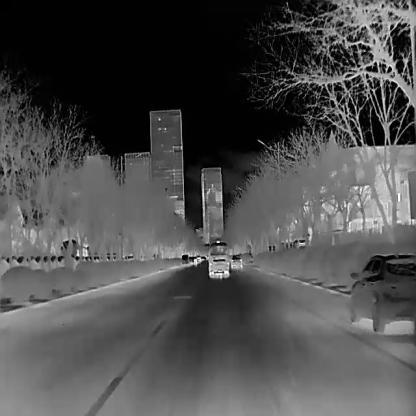car: (347, 254, 416, 333), (207, 240, 230, 279), (229, 253, 242, 268), (180, 254, 189, 264), (196, 254, 201, 263), (188, 256, 193, 263), (193, 256, 196, 263)
